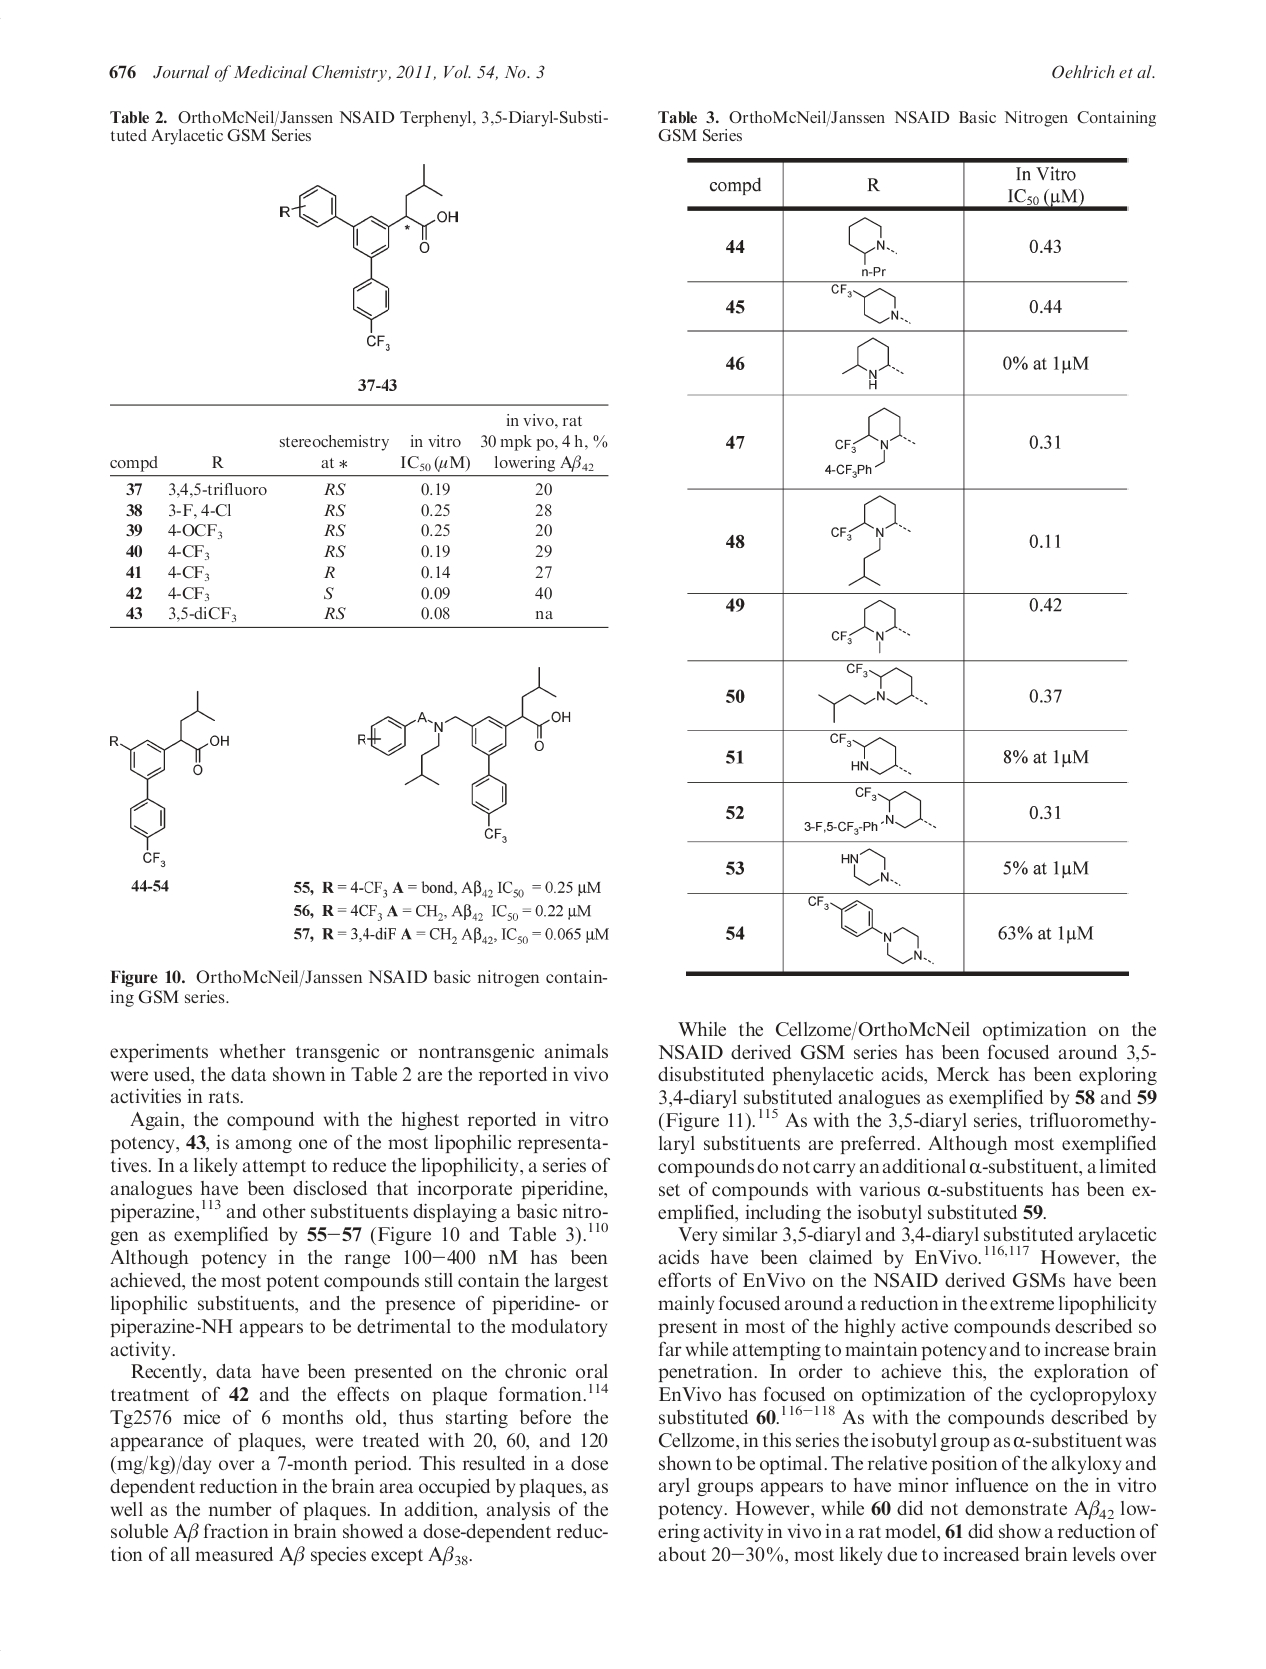exist_molecular: (350, 662, 582, 850), (269, 153, 469, 352), (102, 677, 229, 868), (805, 892, 939, 967), (828, 493, 915, 589), (821, 403, 923, 477), (818, 662, 932, 723), (803, 786, 940, 836), (830, 597, 914, 654), (836, 334, 912, 391), (828, 281, 914, 327), (828, 733, 911, 777), (844, 214, 902, 277), (840, 844, 902, 888)
